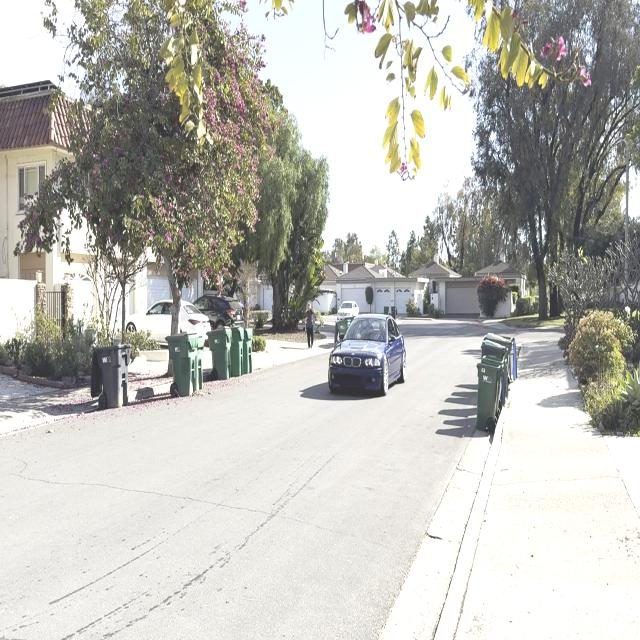Carbeetle: (323, 301, 414, 413)
